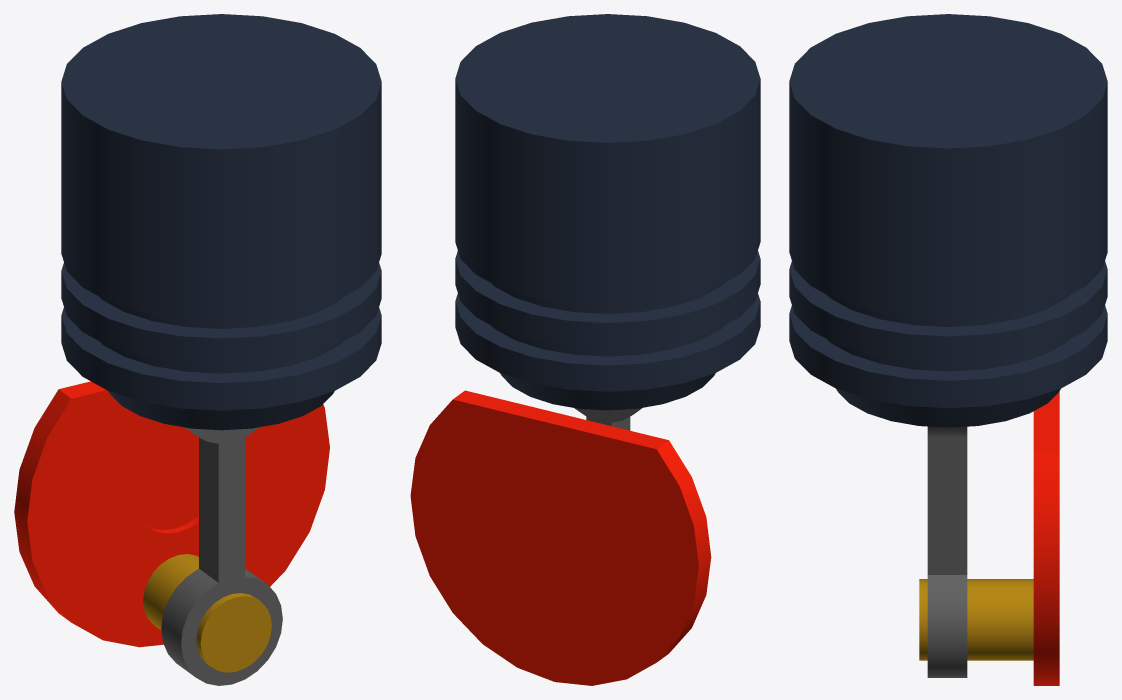
Rendered from piston.fbx.
3 renders of one model, left to right at view 1: azimuth 30°, elevation 25°; view 2: azimuth 150°, elevation 25°; view 3: azimuth 270°, elevation 25°, orthographic. The views are drawn at different scales.
Visible parts, largest first — view 1: Group2, Difference, Group3, Group4; view 2: Group2, Difference, Group3; view 3: Group2, Group3, Difference, Group4.
Boxes of the visible parts, <box> form: Group2: <box>61,14,381,430</box>; Difference: <box>14,381,329,647</box>; Group3: <box>161,427,282,685</box>; Group4: <box>143,554,271,672</box>; Group2: <box>455,14,760,410</box>; Difference: <box>410,390,711,685</box>; Group3: <box>574,407,642,430</box>; Group2: <box>789,14,1107,427</box>; Group3: <box>927,426,967,677</box>; Difference: <box>1033,391,1059,685</box>; Group4: <box>919,579,1033,660</box>.
Size of the model in its own units: 467 by 877 by 428.
